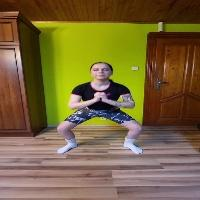squats: (37, 49, 157, 162)
